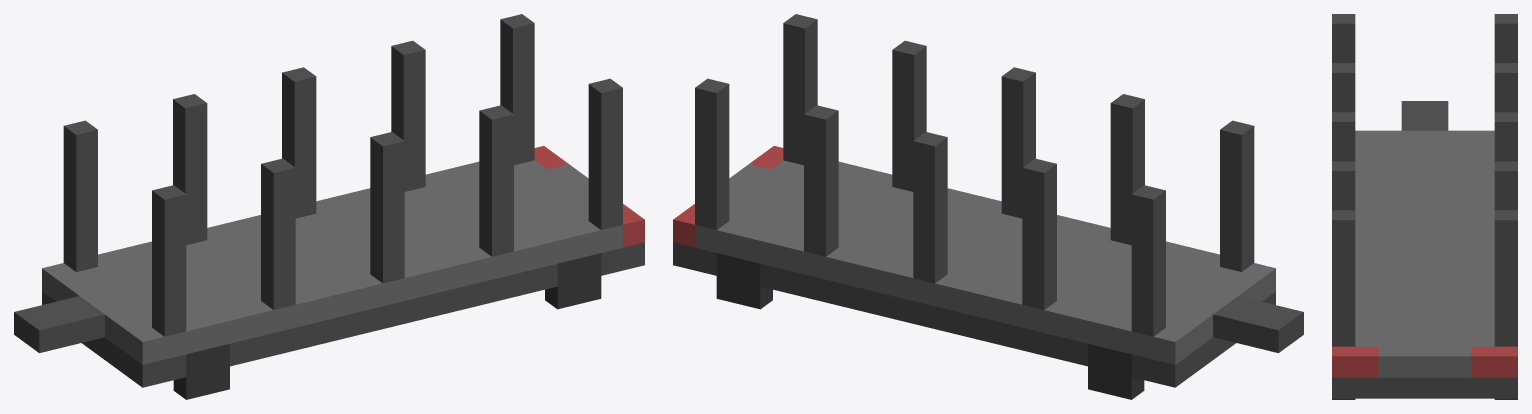
File: tractor-trailer-v3-grey.gltf
3 views of the same model, side by side, from view 1: azimuth 30°, elevation 25°; view 2: azimuth 150°, elevation 25°; view 3: azimuth 270°, elevation 25° (orthographic). The views are drawn at different scales.
Visible parts, largest first — view 1: model, wheels; view 2: model, wheels; view 3: model.
Boxes of the visible parts, x1,y1,x2,y2 form: model: (14, 14, 644, 387); wheels: (173, 253, 601, 399); model: (673, 14, 1303, 387); wheels: (716, 253, 1144, 399); model: (1332, 14, 1517, 398).
Size of the model in its own units: 2.6 by 0.9 by 0.8.
2 materials, 2 textured.
